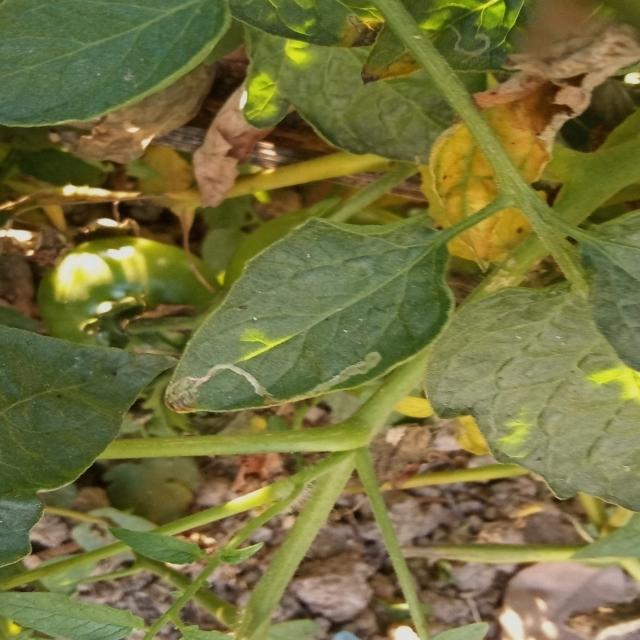Tuta absoluta: (166, 351, 385, 414)
